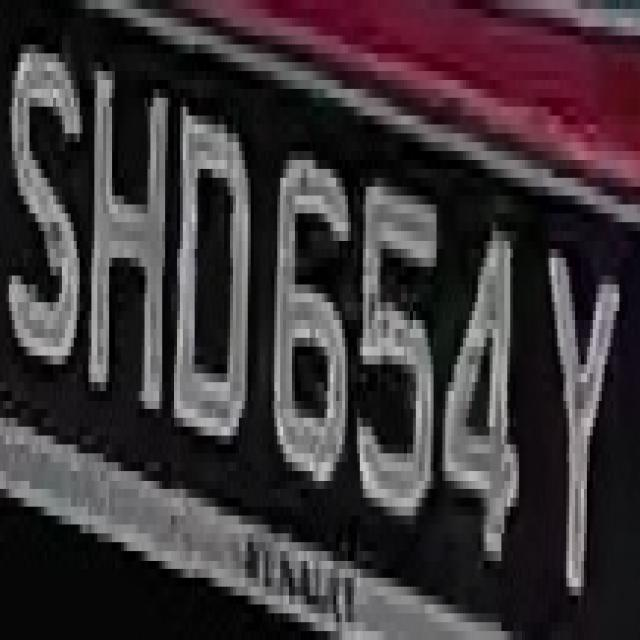4: (434, 169, 536, 569)
5: (354, 142, 439, 534)
6: (268, 115, 348, 489)
D: (168, 71, 257, 471)
H: (83, 26, 177, 418)
S: (6, 18, 85, 373)
Y: (543, 205, 622, 604)
